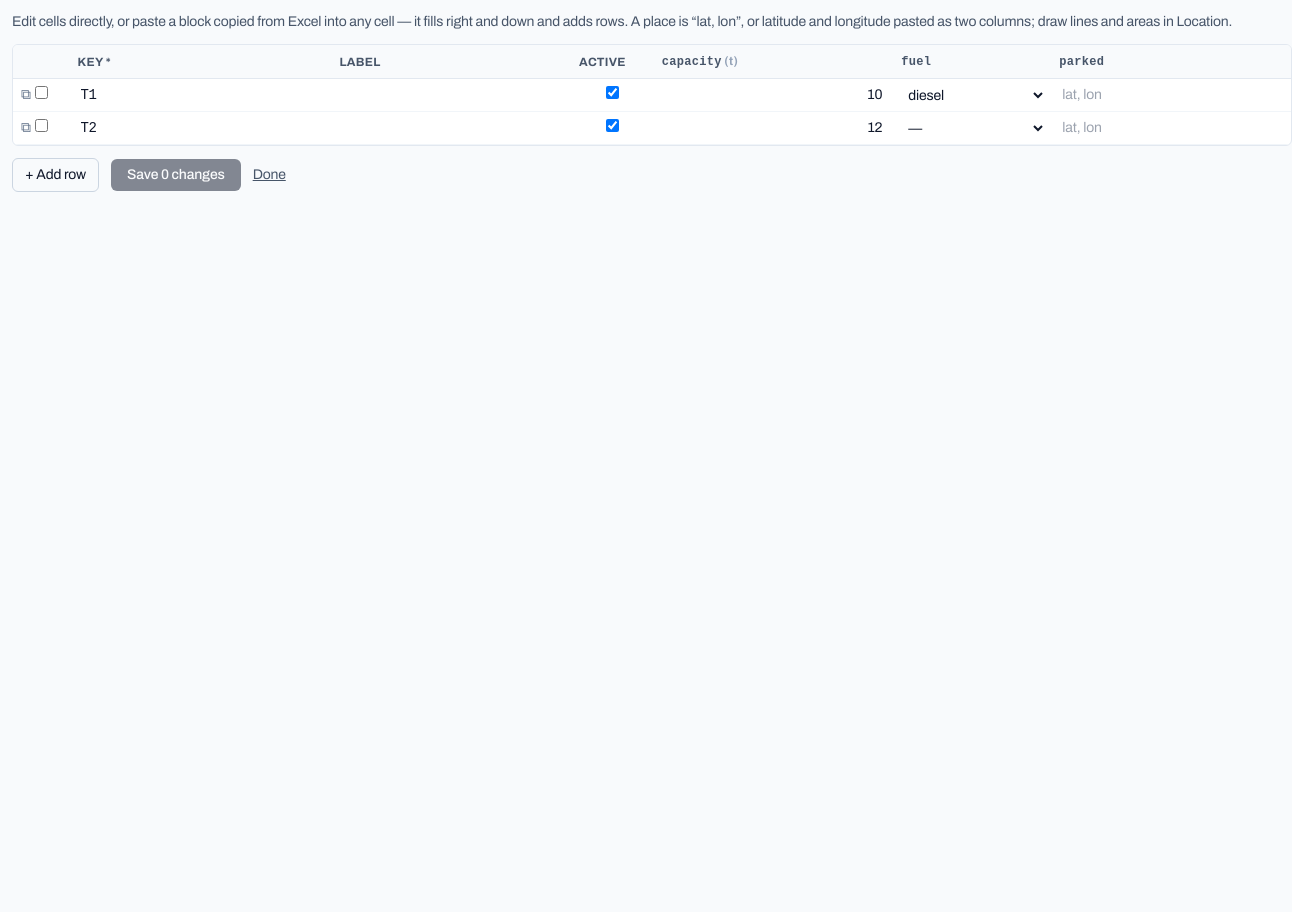
RecordGrid › marks a bad row in place and still saves the good ones
Replace the text in the field named "T1: capacity" with "ten". click: (773, 95)
box: [658,80,889,110]
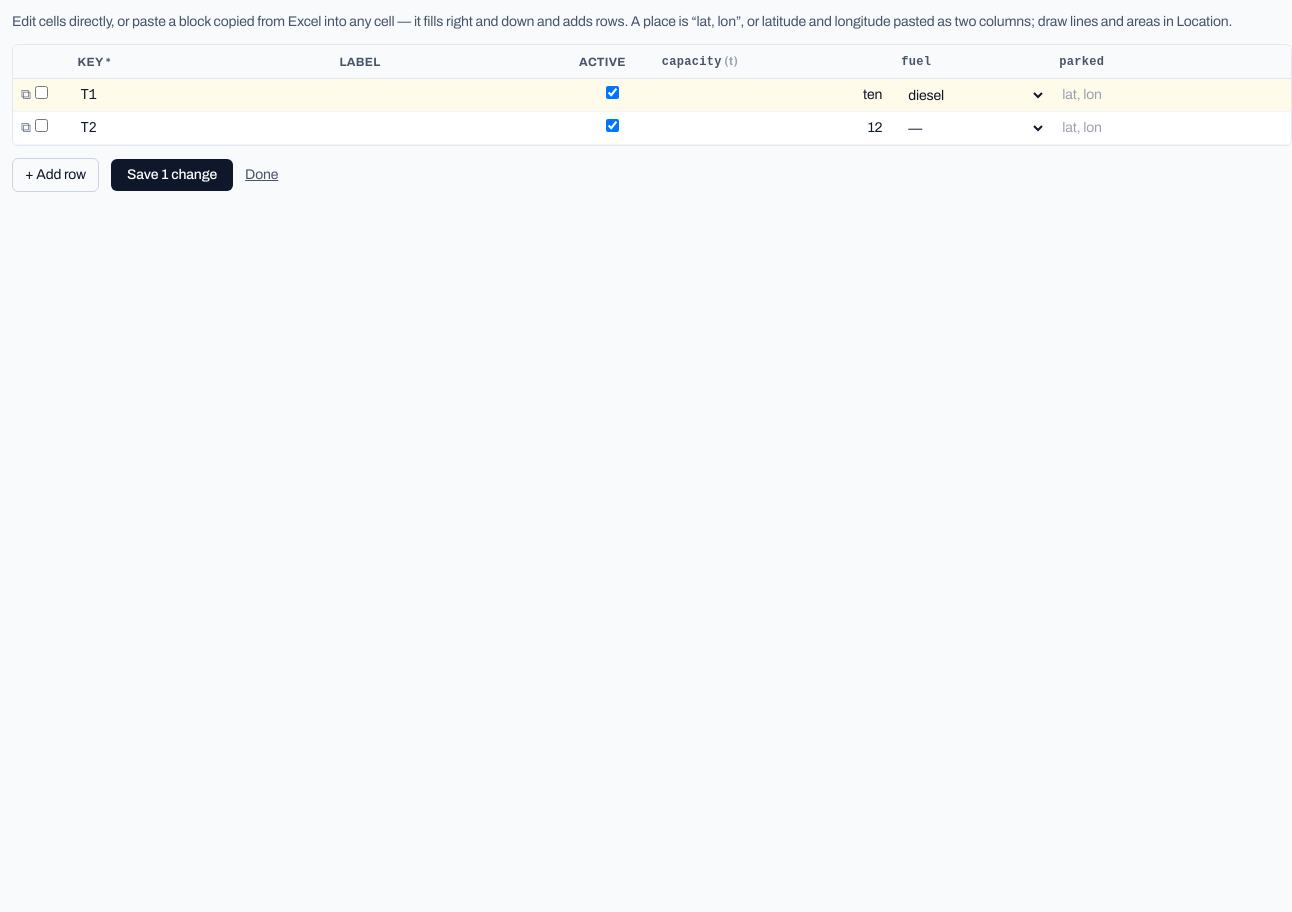
Select "electric" in the dropdown named "T2: fuel". click: (972, 128)
box: [897,114,1047,142]
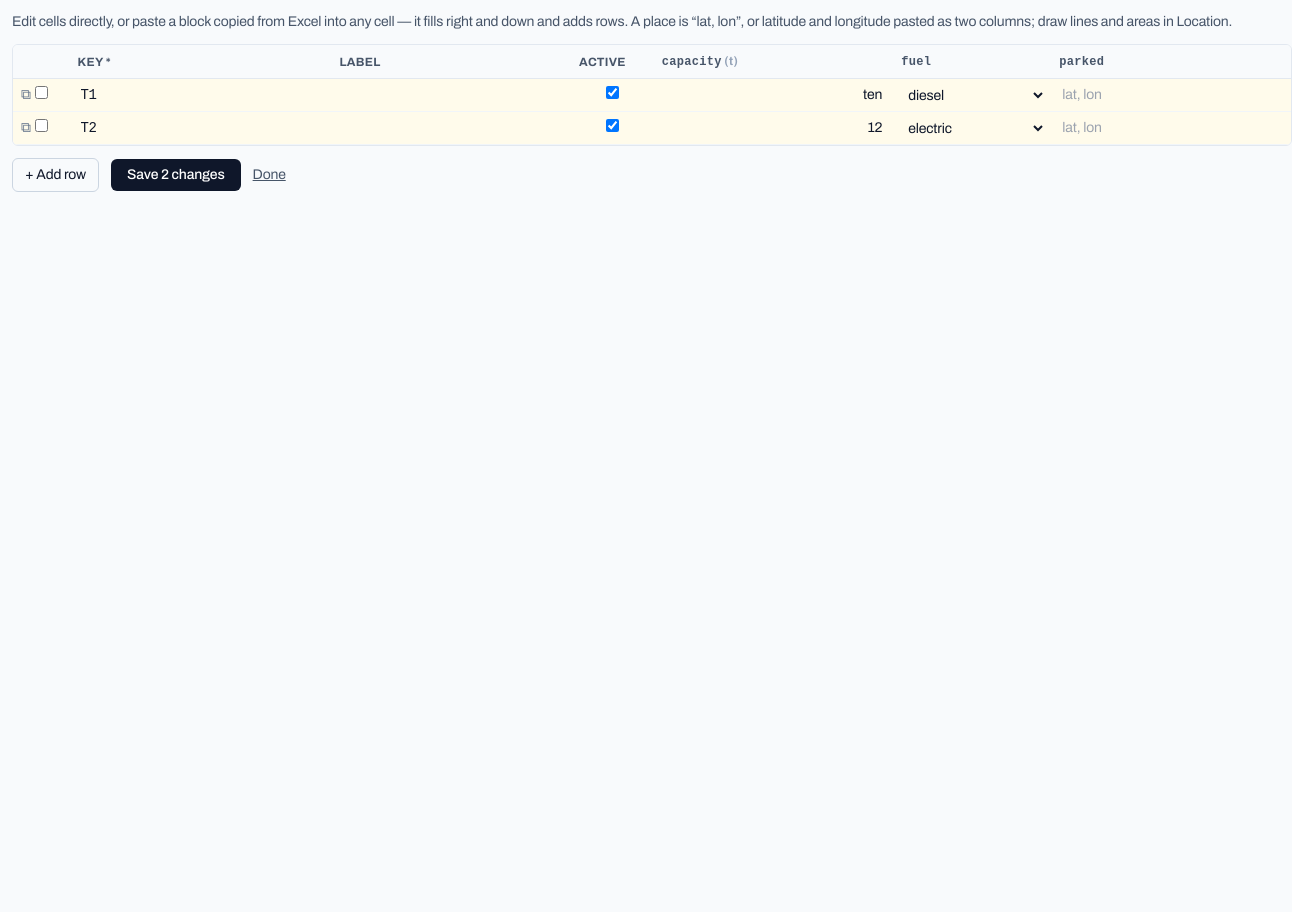
Click the button "+ Add row". click: (56, 175)
box: [12,158,99,192]
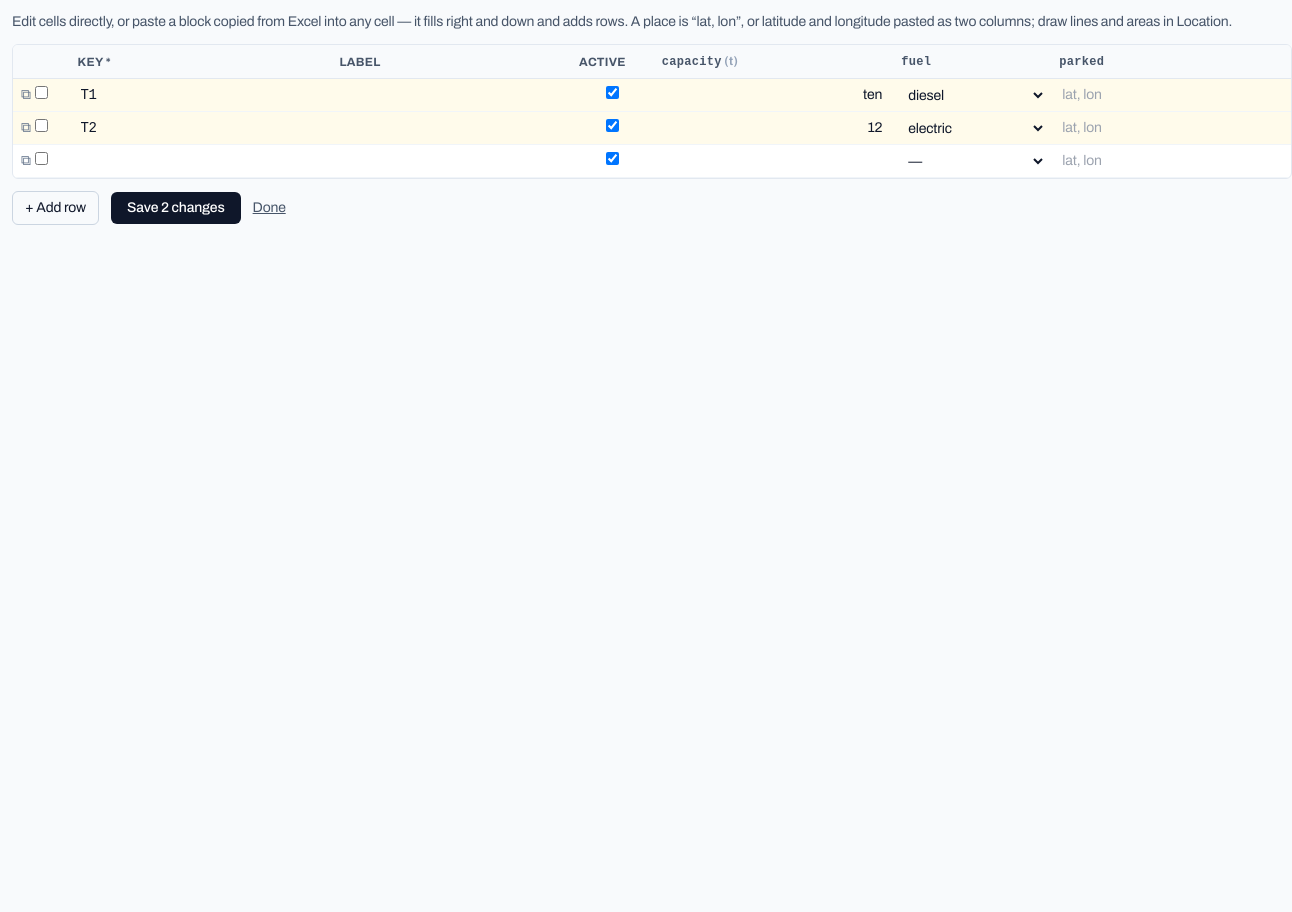
Type "no key" into the field named "new row 3: label". click: (451, 161)
box: [335,146,567,176]
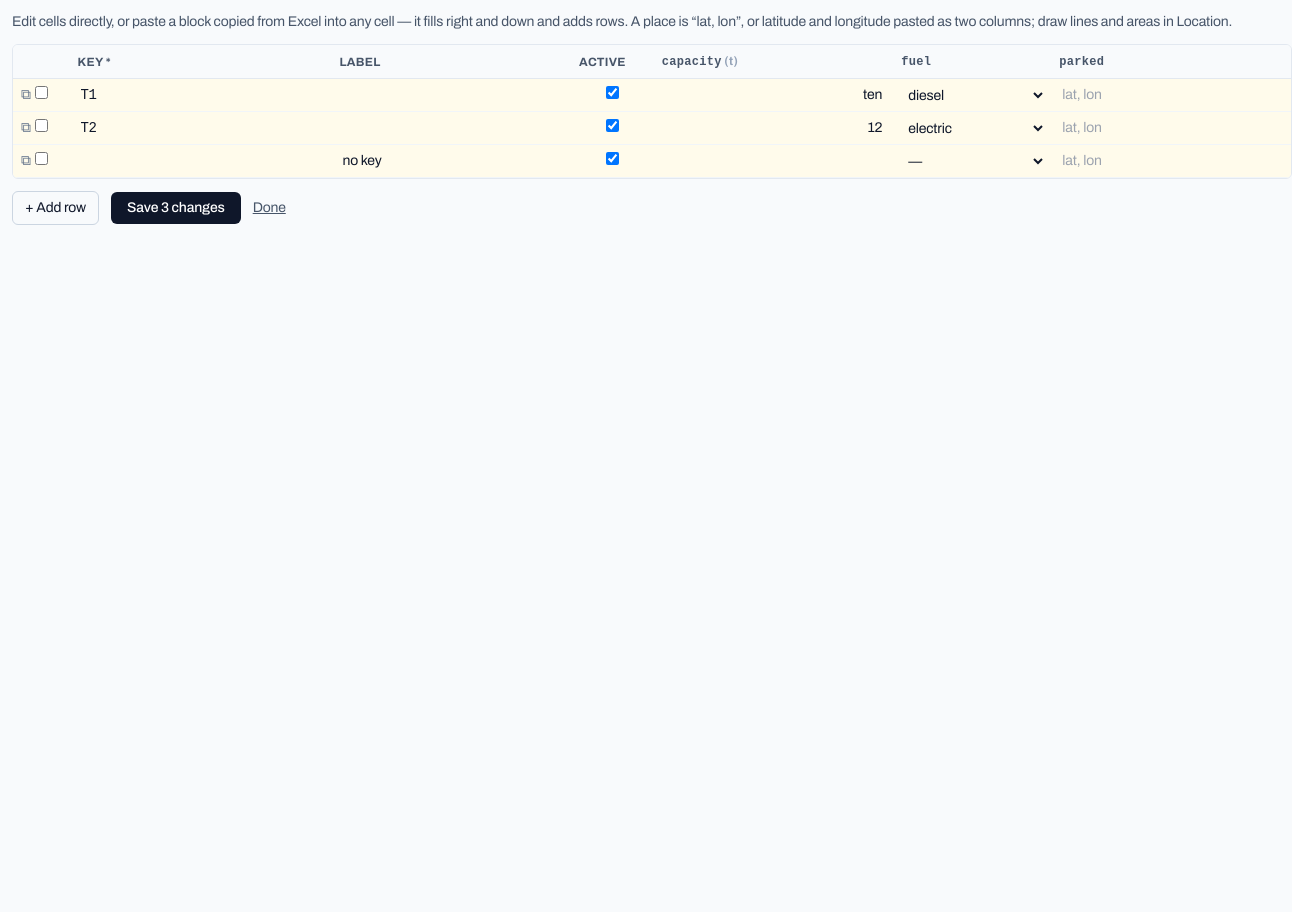
Click the button "Save 3 changes". click: (176, 208)
box: [111,192,241,224]
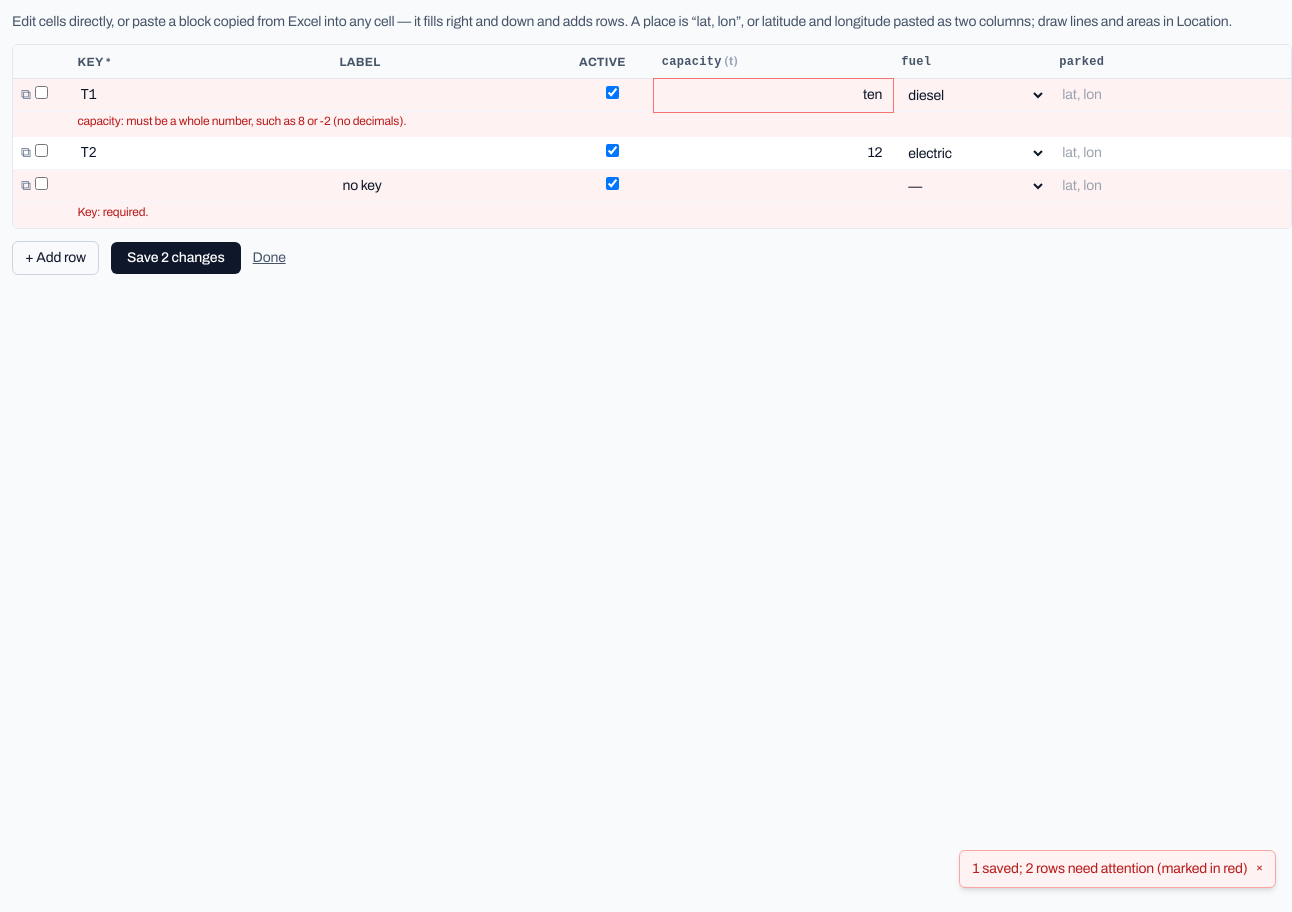
Now the button "Save 2 changes" is enabled, box [111,242,241,274]
Now the text "capacity: must be a whole number, such as 8 or -2 (no decimals)." is shown, box [69,112,1291,137]
Now the text "Key: required." is shown, box [69,202,1291,228]
